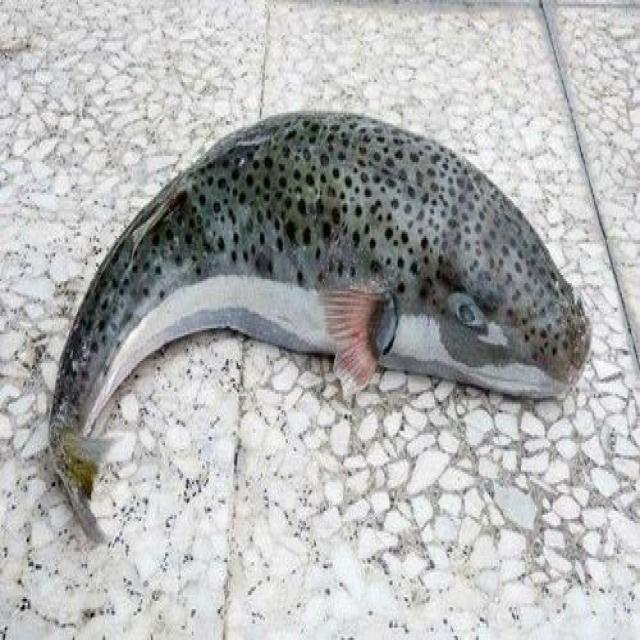Balik: (50, 113, 590, 539)
